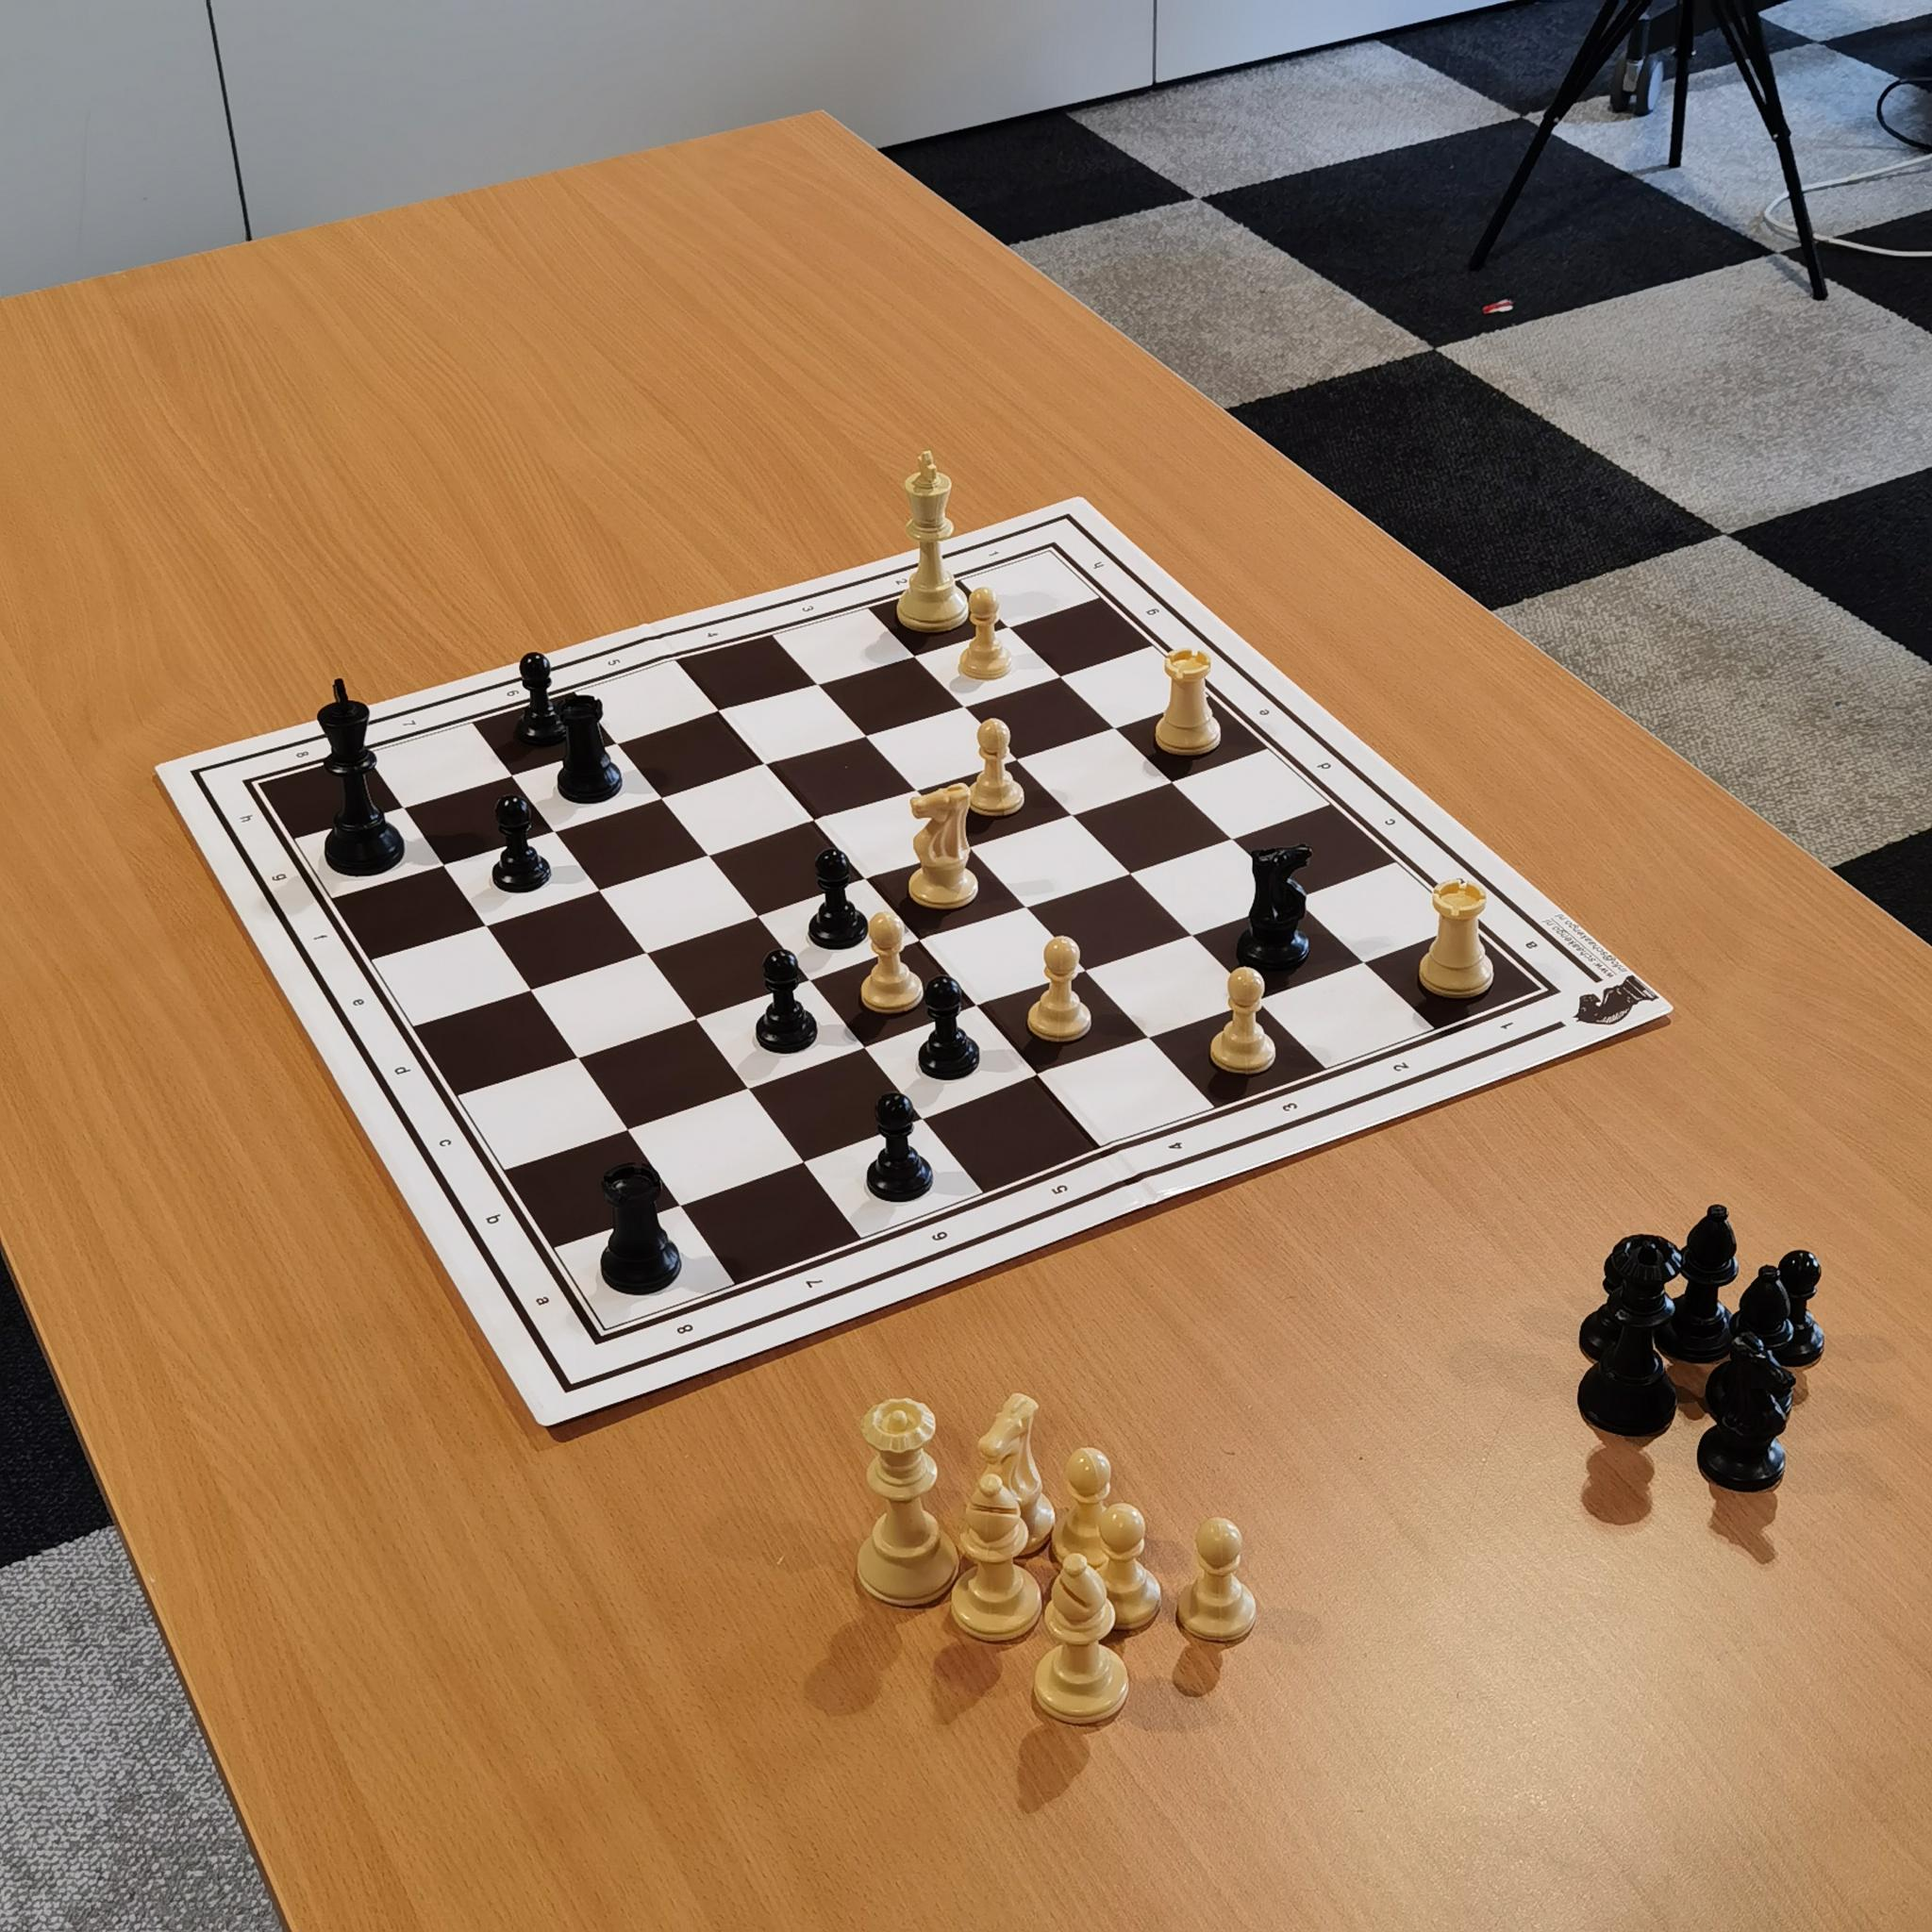corners: (1530, 971, 1580, 1016), (579, 1327, 619, 1366), (230, 770, 274, 801), (1039, 538, 1079, 571)
eight: (662, 1304, 706, 1345), (285, 734, 318, 768)
one: (1484, 1010, 1530, 1049), (984, 538, 1016, 570)
